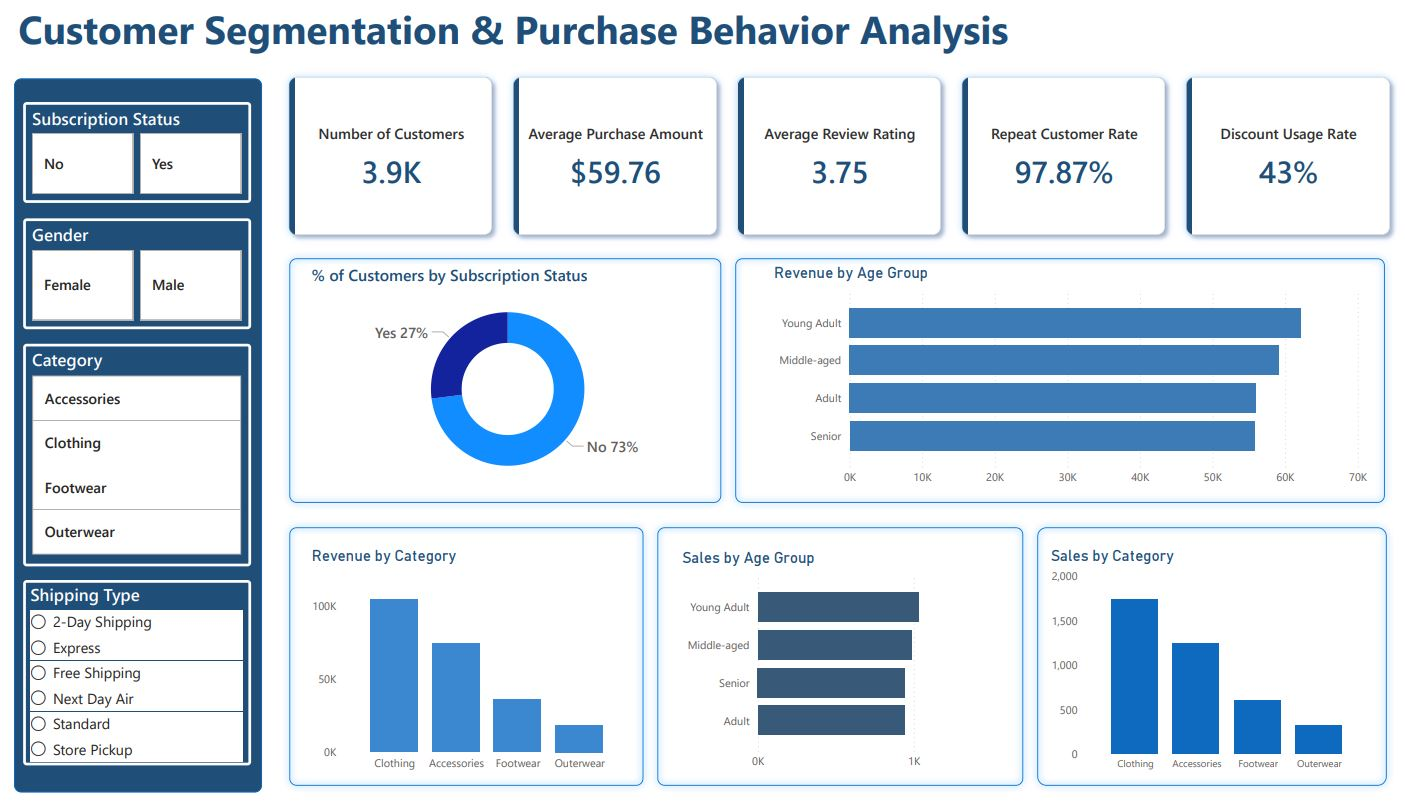

The page's visual inventory and layout, read from the dashboard file:
{"tool":"powerbi","page":{"name":"Analysis","canvas":[1570,900],"ordinal":0},"visuals":[{"type":"cardVisual","fields":{"Data":["public customer.Number of Customers","public customer.Average Purchase Amount","public customer.Average Review Rating","public customer.Repeat Customer Rate (%)","public customer.Discount Usage Rate (%)"]},"box":[306.8,71.3,1249,207.8],"z":0},{"type":"textbox","box":[21.4,0,1185,69.9],"z":1000},{"type":"shape","box":[20.6,88.9,273,785.8],"z":2000},{"type":"shape","box":[317.5,279.4,490.5,284.2],"z":3000},{"type":"shape","box":[808,279.4,730.2,284.2],"z":4000},{"type":"shape","box":[317.5,574.7,404.8,300],"z":5000},{"type":"shape","box":[722.3,574.7,417.5,300],"z":6000},{"type":"shape","box":[1139.8,574.7,400,300],"z":7000},{"type":"donutChart","title":"% of Customers by Subscription Status","fields":{"Category":["public customer.subscription_status"],"Y":["CountNonNull(public customer.customer_id)"]},"box":[343.8,293.3,441,252.5],"z":8000},{"type":"clusteredColumnChart","title":"Revenue by Category","fields":{"Category":["public customer.category"],"Y":["Sum(public customer.purchase_amount)"]},"box":[343.8,604.2,359.4,256.4],"z":9000},{"type":"clusteredColumnChart","title":"Sales by Category","fields":{"Category":["public customer.category"],"Y":["CountNonNull(public customer.customer_id)"]},"box":[1157.8,604.2,359.4,256.4],"z":10000},{"type":"advancedSlicerVisual","fields":{"Values":["public customer.subscription_status"]},"box":[31.1,114.6,250.6,110.7],"z":11000},{"type":"advancedSlicerVisual","fields":{"Values":["public customer.gender"]},"box":[31.1,242.8,250.6,122.4],"z":12000},{"type":"advancedSlicerVisual","fields":{"Values":["public customer.category"]},"box":[31.1,380.8,250.6,244.8],"z":13000},{"type":"listSlicer","fields":{"Values":["public customer.shipping_type"]},"box":[31.1,641.1,250.6,204],"z":14000},{"type":"clusteredBarChart","title":"Revenue by Age Group","fields":{"Y":["Sum(public customer.purchase_amount)"],"Category":["public customer.age_group"]},"box":[852.8,293.3,662.4,252.5],"z":15000},{"type":"clusteredBarChart","title":"Sales by Age Group","fields":{"Category":["public customer.age_group"],"Y":["CountNonNull(public customer.customer_id)"]},"box":[751.8,606.1,357.4,252.5],"z":16000}]}

Visuals, with their boxes in screenshot pixels (x1, y1, x2, y2), scaled from the page's 1570x900 canvas onto the 1405x805 screenshot:
cardVisual - public customer.Number of Customers x public customer.Average Purchase Amount: (275, 64, 1392, 250)
textbox: (19, 0, 1080, 63)
shape: (18, 80, 263, 782)
shape: (284, 250, 723, 504)
shape: (723, 250, 1377, 504)
shape: (284, 514, 646, 782)
shape: (646, 514, 1020, 782)
shape: (1020, 514, 1378, 782)
"% of Customers by Subscription Status" donutChart: (308, 262, 702, 488)
"Revenue by Category" clusteredColumnChart: (308, 540, 629, 770)
"Sales by Category" clusteredColumnChart: (1036, 540, 1358, 770)
advancedSlicerVisual - public customer.subscription_status: (28, 103, 252, 202)
advancedSlicerVisual - public customer.gender: (28, 217, 252, 327)
advancedSlicerVisual - public customer.category: (28, 341, 252, 560)
listSlicer - public customer.shipping_type: (28, 573, 252, 756)
"Revenue by Age Group" clusteredBarChart: (763, 262, 1356, 488)
"Sales by Age Group" clusteredBarChart: (673, 542, 993, 768)
